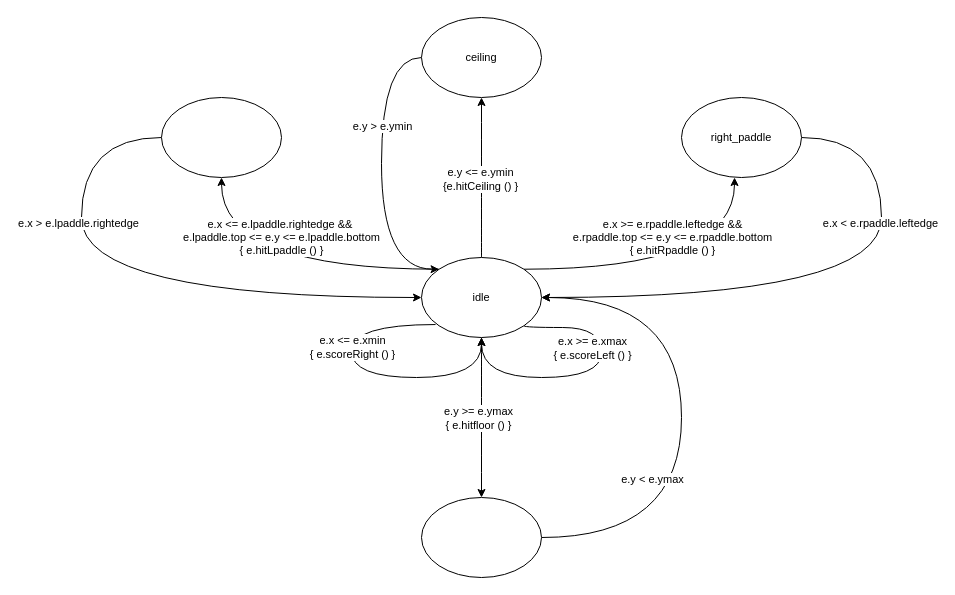
Image size: 955x595. Some labels were removed from this diagram. Here are the shapes that lost their labels. From the top down, the centre of each, then its label:
the point at 221,137: left_paddle
the point at 481,537: floor
